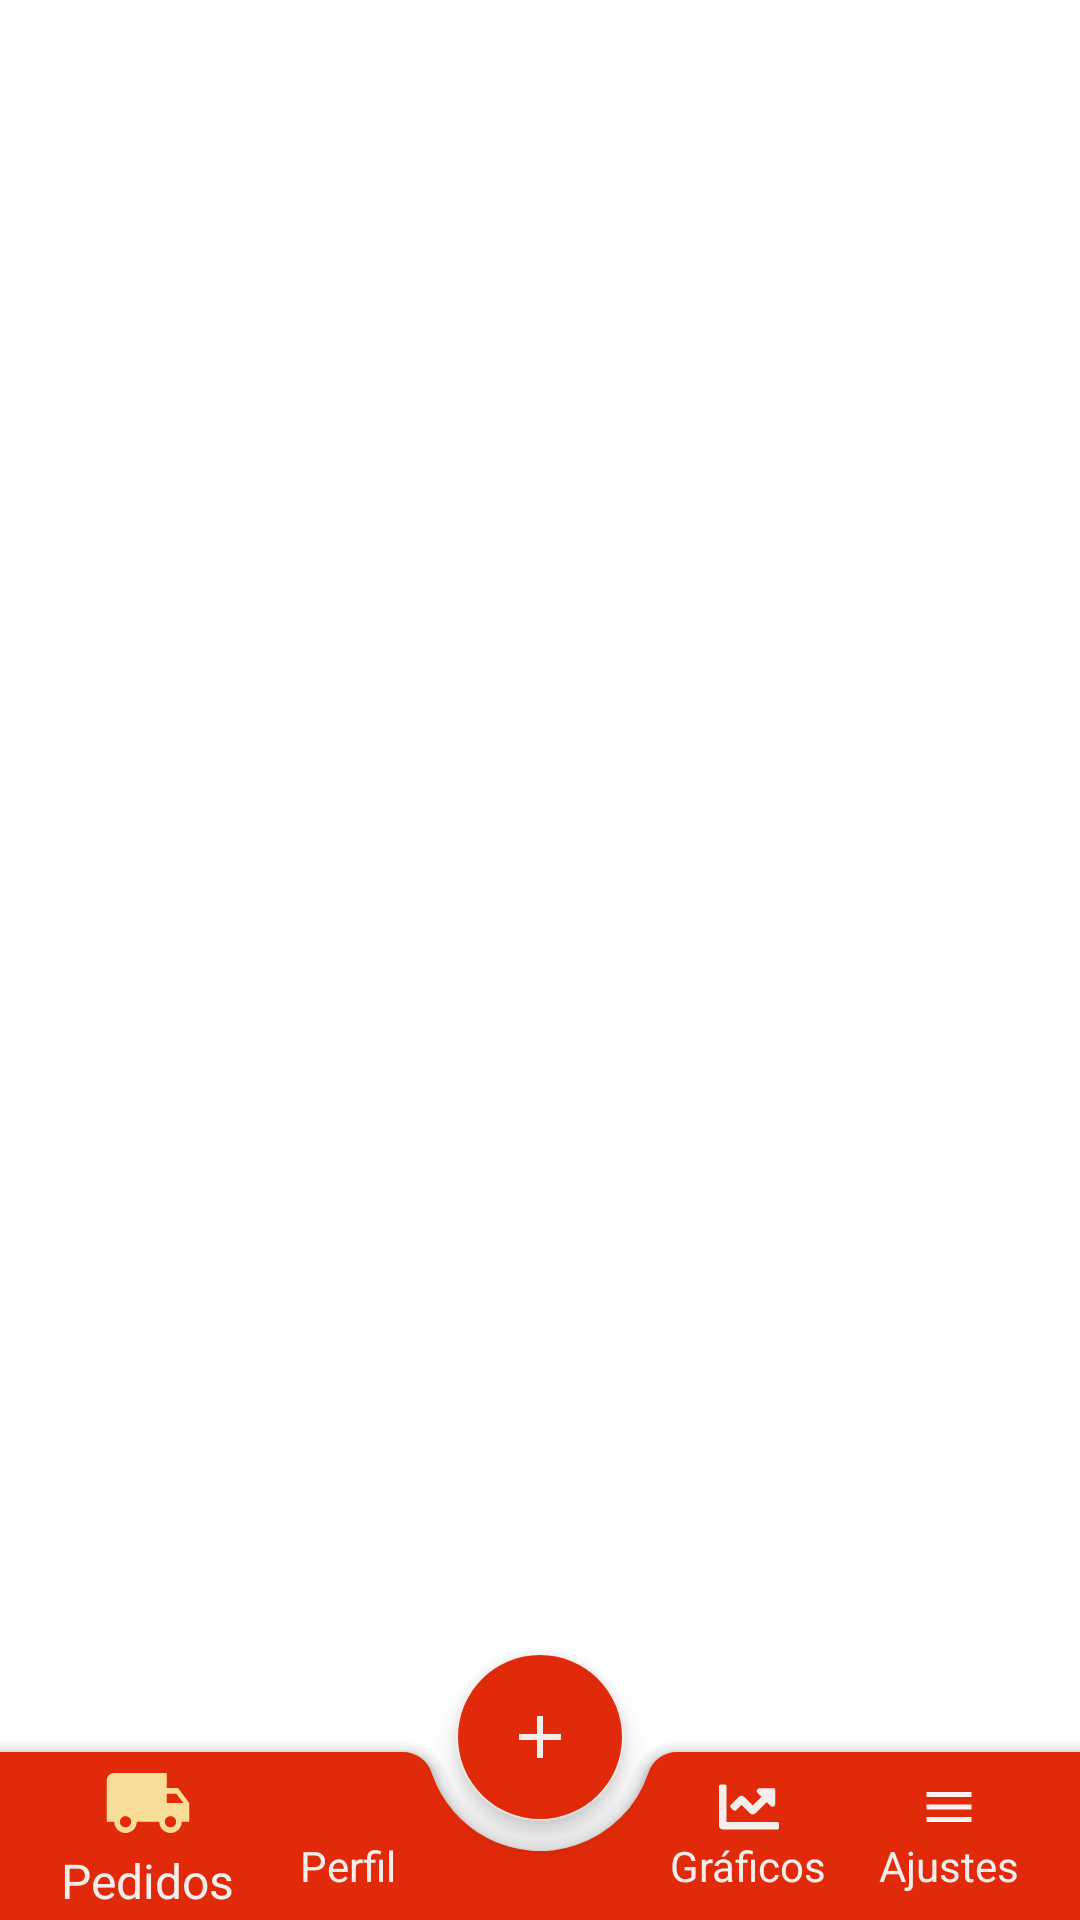

Icons on this 1080px×1920px Android screen, each with the point to tap as [x,y]:
add: [540,1752]
camion: [148,1803]
menu: [949,1807]
